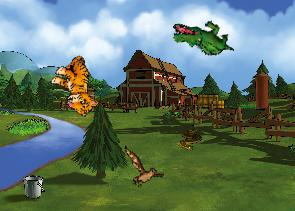crocodile: (171, 17, 234, 59)
eagle: (113, 145, 169, 194)
tiger: (43, 50, 113, 120)
